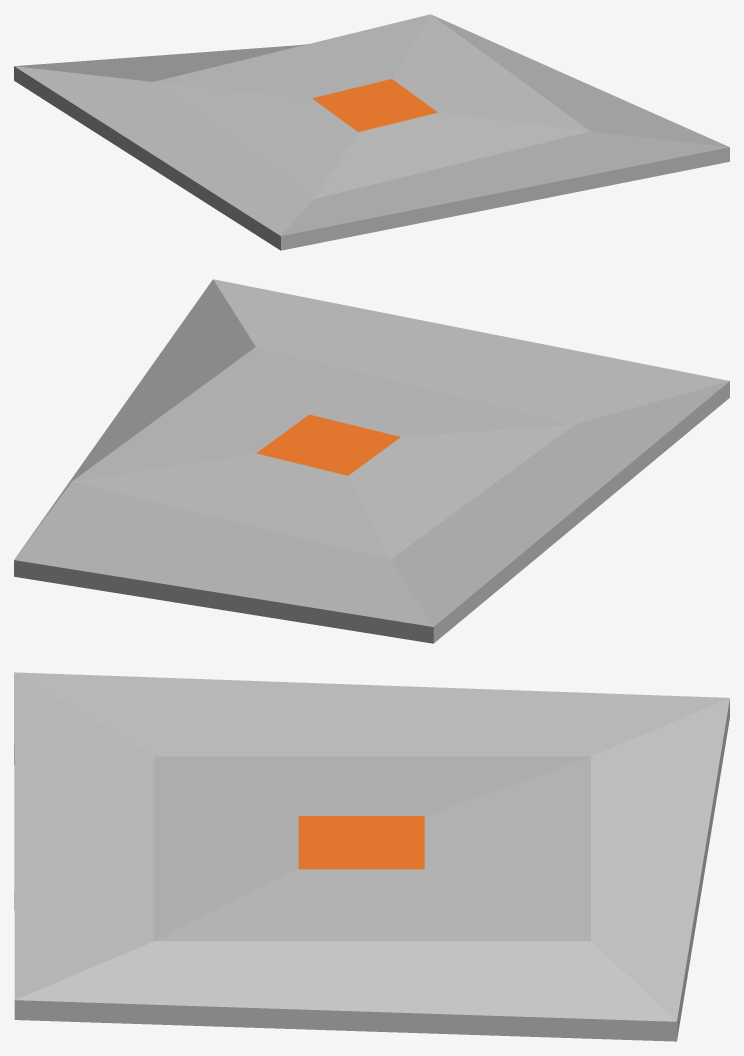
File: SpiceConsumed.fbx
3 views of the same model, one above another, from view 1: azimuth 30°, elevation 25°; view 2: azimuth 150°, elevation 25°; view 3: azimuth 270°, elevation 25° (orthographic). The views are drawn at different scales.
Parts seen in each view (by area): view 1: Cube; view 2: Cube; view 3: Cube.
Part boxes in pixels (<box>): Cube: <box>14,14,729,250</box>; Cube: <box>14,279,729,643</box>; Cube: <box>14,672,729,1041</box>.
Bounding box in the file's own units: 327 × 58.68 × 328.
